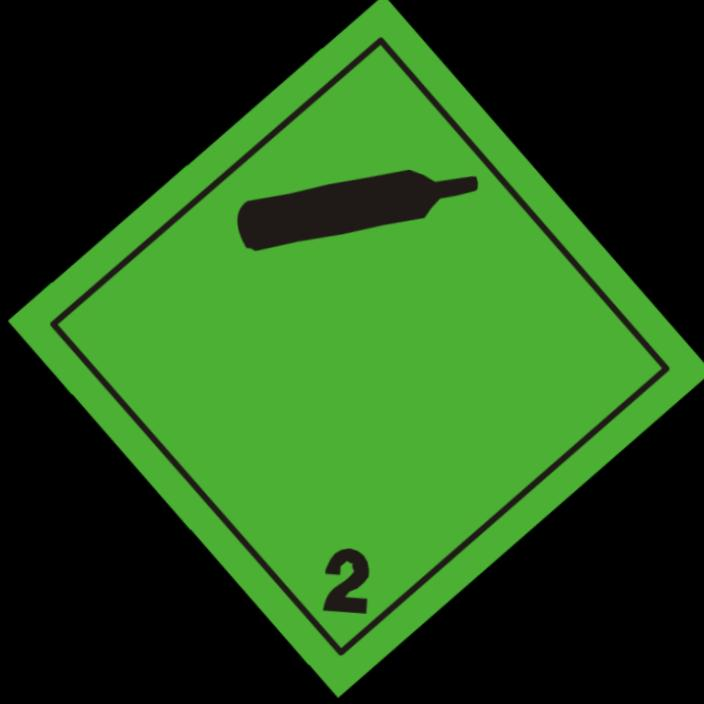building map: (8, 0, 704, 697)
